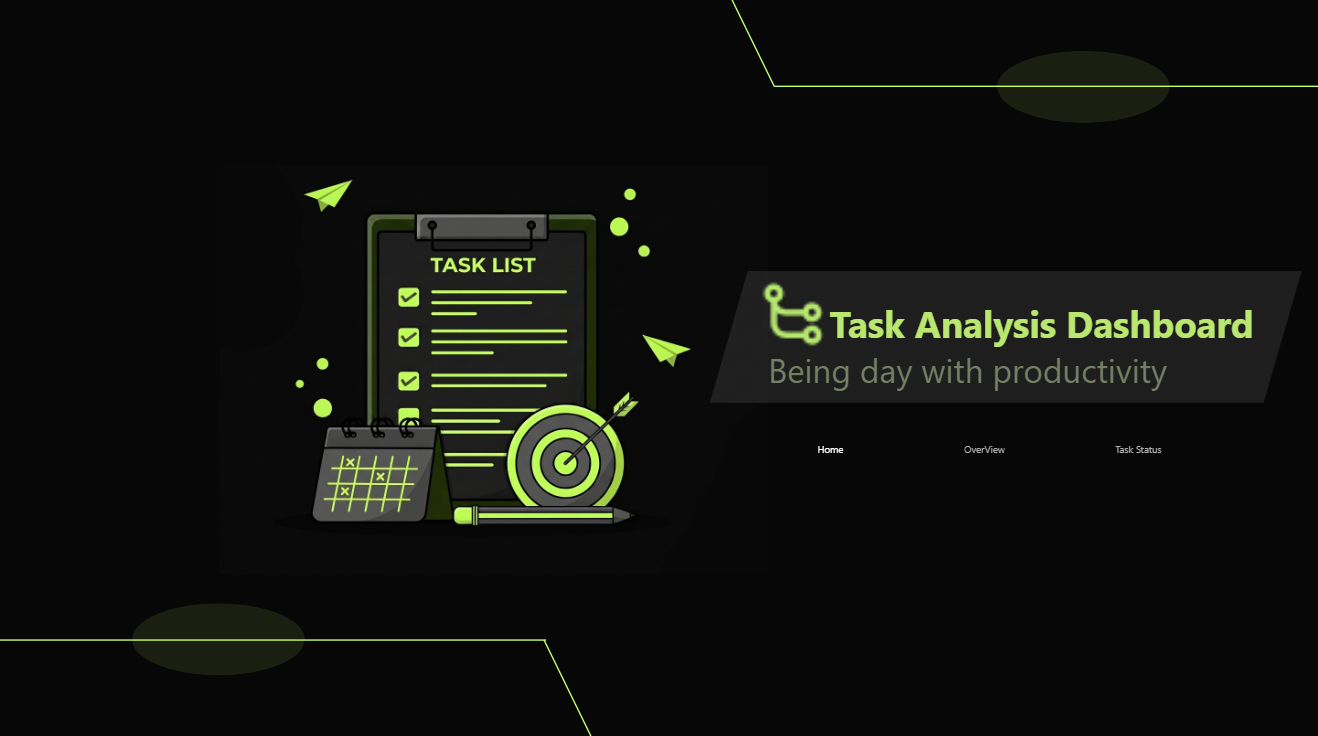

Layout of this report page (visuals, bound fields, positions):
{"tool":"powerbi","page":{"name":"Home","canvas":[1920,1080],"ordinal":0},"visuals":[{"type":"image","box":[322.2,98,794.6,883.8],"z":0},{"type":"textbox","box":[1116.7,507.2,731.4,80.5],"z":1000},{"type":"image","box":[1101.5,394,104.5,128.4],"z":2000},{"type":"textbox","box":[1206,435.4,683.5,71.8],"z":3000},{"type":"shape","box":[1447.6,78.4,250.3,104.5],"z":4000},{"type":"shape","box":[195.9,877.3,250.3,104.5],"z":5000},{"type":"shape","box":[0,855.5,795,150],"z":6000},{"type":"shape","box":[1125.4,54.4,795,150],"z":7000},{"type":"shape","box":[431,929.5,795,150],"z":8000},{"type":"shape","box":[697,0,794.6,130.6],"z":9000},{"type":"shape","box":[1031.8,396.2,857.7,191.6],"z":10000},{"type":"pageNavigator","box":[1101.5,616.1,657.4,80.5],"z":11000}]}

Visuals, with their boxes in screenshot pixels (x1, y1, x2, y2), scaled from the page's 1920x1080 canvas onto the 1318x736 screenshot:
image: (x1=221, y1=67, x2=767, y2=669)
textbox: (x1=767, y1=346, x2=1269, y2=401)
image: (x1=756, y1=269, x2=828, y2=356)
textbox: (x1=828, y1=297, x2=1297, y2=346)
shape: (x1=994, y1=53, x2=1166, y2=125)
shape: (x1=134, y1=598, x2=306, y2=669)
shape: (x1=0, y1=583, x2=546, y2=685)
shape: (x1=773, y1=37, x2=1317, y2=139)
shape: (x1=296, y1=633, x2=842, y2=735)
shape: (x1=478, y1=0, x2=1024, y2=89)
shape: (x1=708, y1=270, x2=1297, y2=401)
pageNavigator: (x1=756, y1=420, x2=1207, y2=475)
